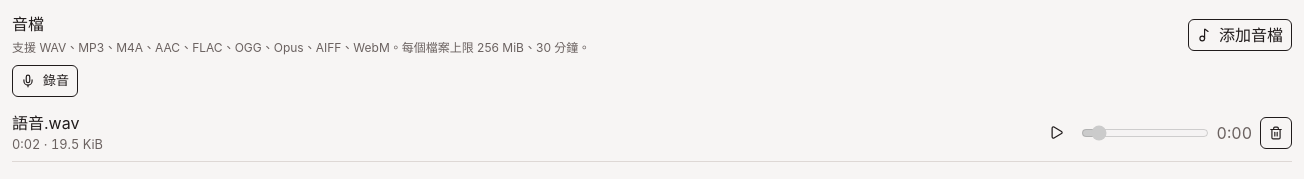
Test: AudioEditor › shows playback failure in Taiwan Traditional Chinese
The width and height of the screenshot is (1304, 179).
Expected: the text "語音.wav" is shown, [12,113,80,133]
Click the button named "播放 語音.wav": (1057,133) [1041,117,1073,149]
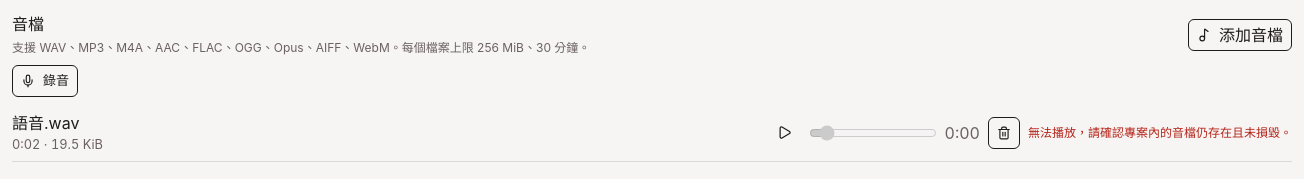
Expected: the button "添加音檔" is enabled, [1188,18,1292,50]
Expected: the message shows "無法播放", [1028,125,1292,140]
